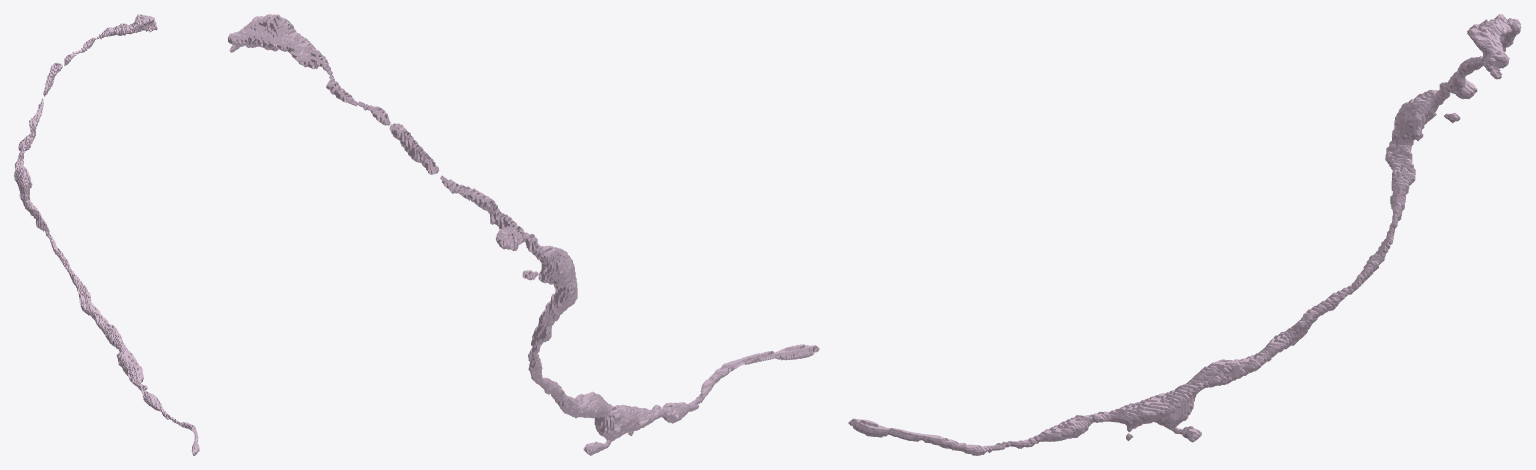
Rendered from SVV_AIAL.gltf.
3 renders of one model, left to right at view 1: azimuth 30°, elevation 25°; view 2: azimuth 150°, elevation 25°; view 3: azimuth 270°, elevation 25°, orthographic. The views are drawn at different scales.
Visible parts, largest first — view 1: AIAL; view 2: AIAL; view 3: AIAL.
Boxes of the visible parts, <box> form: AIAL: <box>14,14,199,455</box>; AIAL: <box>228,14,819,455</box>; AIAL: <box>848,14,1521,455</box>.
Bounding box in the file's own units: 88631 × 149726 × 176143.
